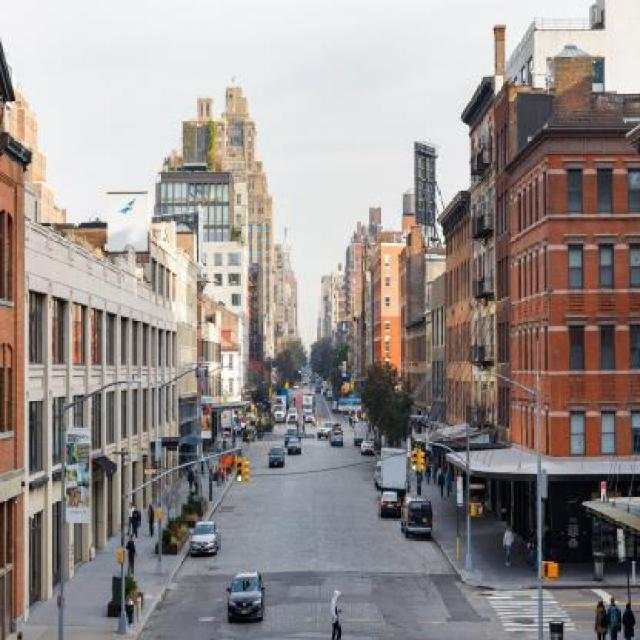Manusia: (323, 586, 354, 640)
